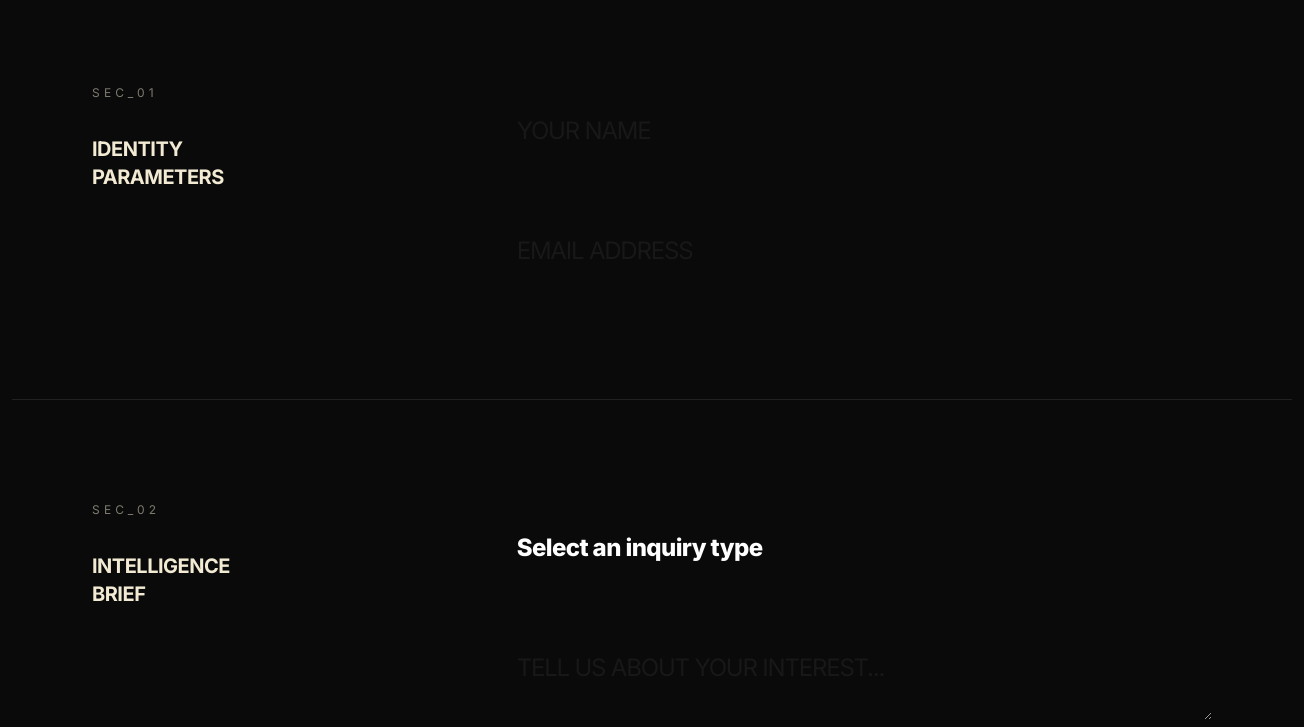
Test: ContactForm › shows inline error on blur when message is empty
The image size is (1304, 727).
Click the text box named "Message" at [845, 668], box [479,616,1212,720]
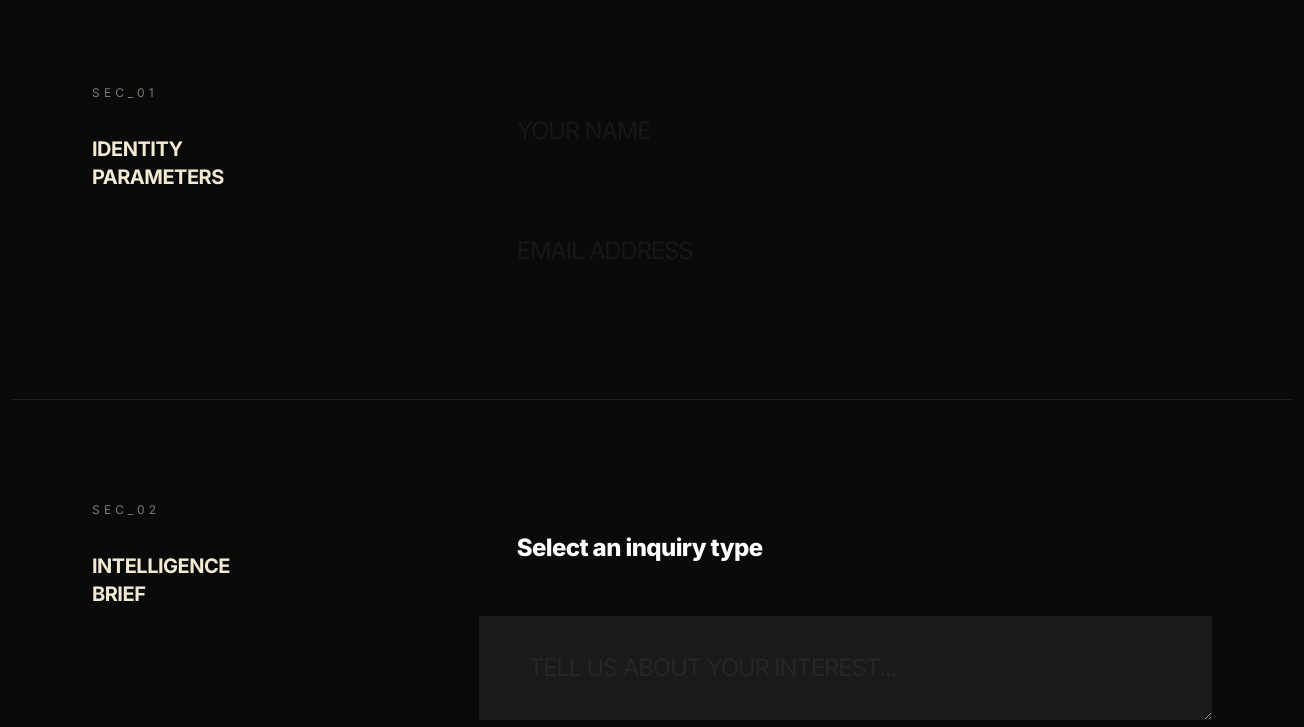
Press Tab
(page scrolled)
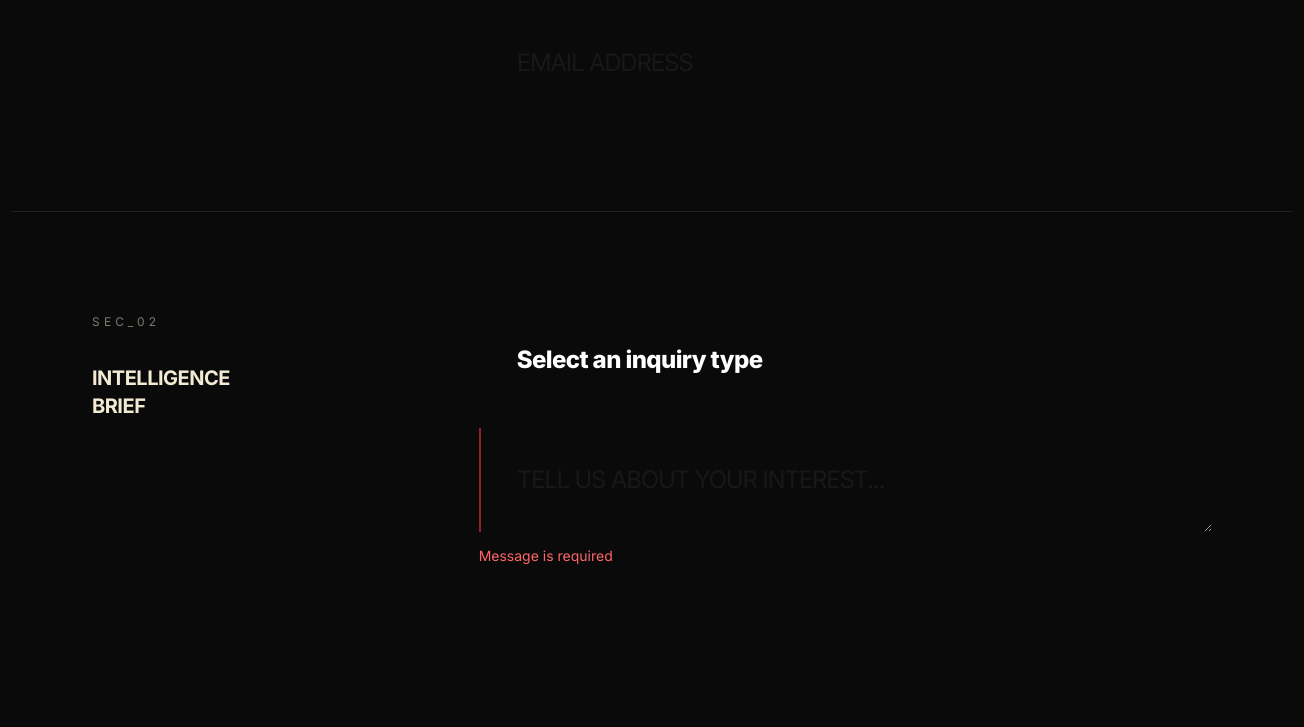
expect the message reads "Message is required": met, box [479,547,613,564]
